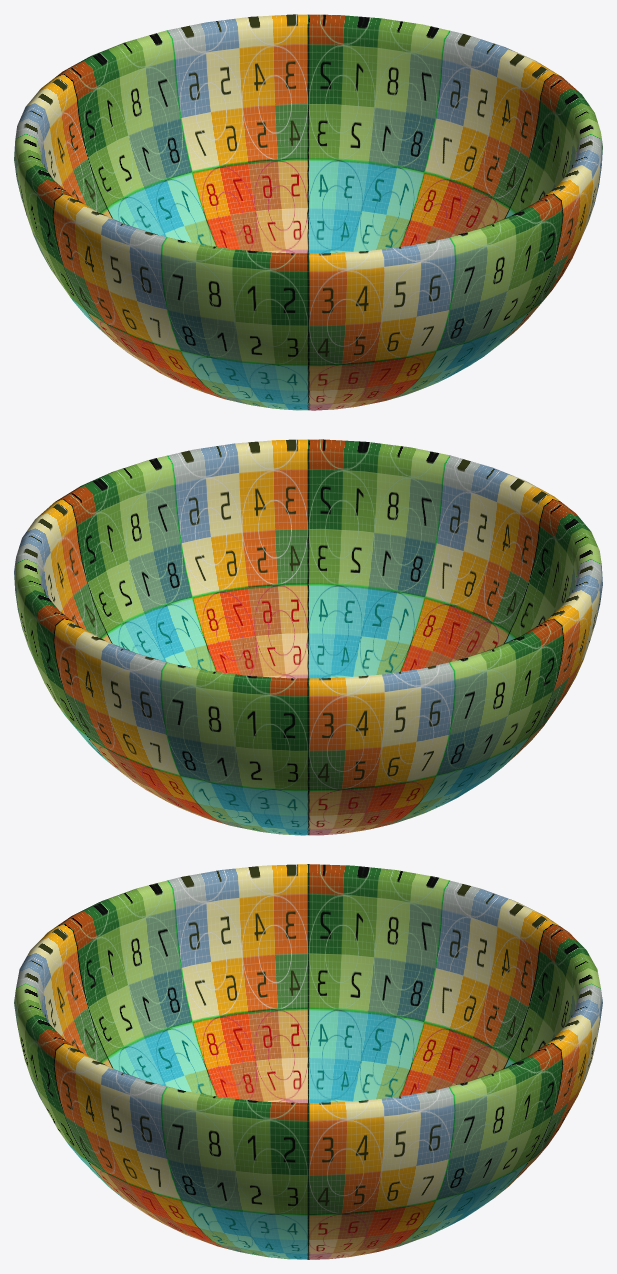
The model's file is Bowl.fbx.
The picture shows the model from 3 angles, top to bottom: view 1: azimuth 30°, elevation 25°; view 2: azimuth 150°, elevation 25°; view 3: azimuth 270°, elevation 25°; orthographic projection.
Parts seen in each view (by area): view 1: pSphere1; view 2: pSphere1; view 3: pSphere1.
Boxes of the visible parts, left/top/right/bottom form: pSphere1: left=14, top=14, right=602, bottom=410; pSphere1: left=14, top=439, right=602, bottom=835; pSphere1: left=14, top=864, right=602, bottom=1259.
Size of the model in its own units: 5.23 by 2.42 by 5.23.
1 material, 1 textured.
